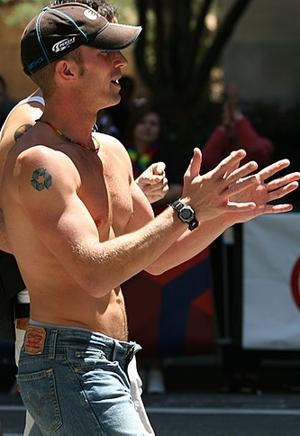person without safety: (2, 4, 149, 436)
